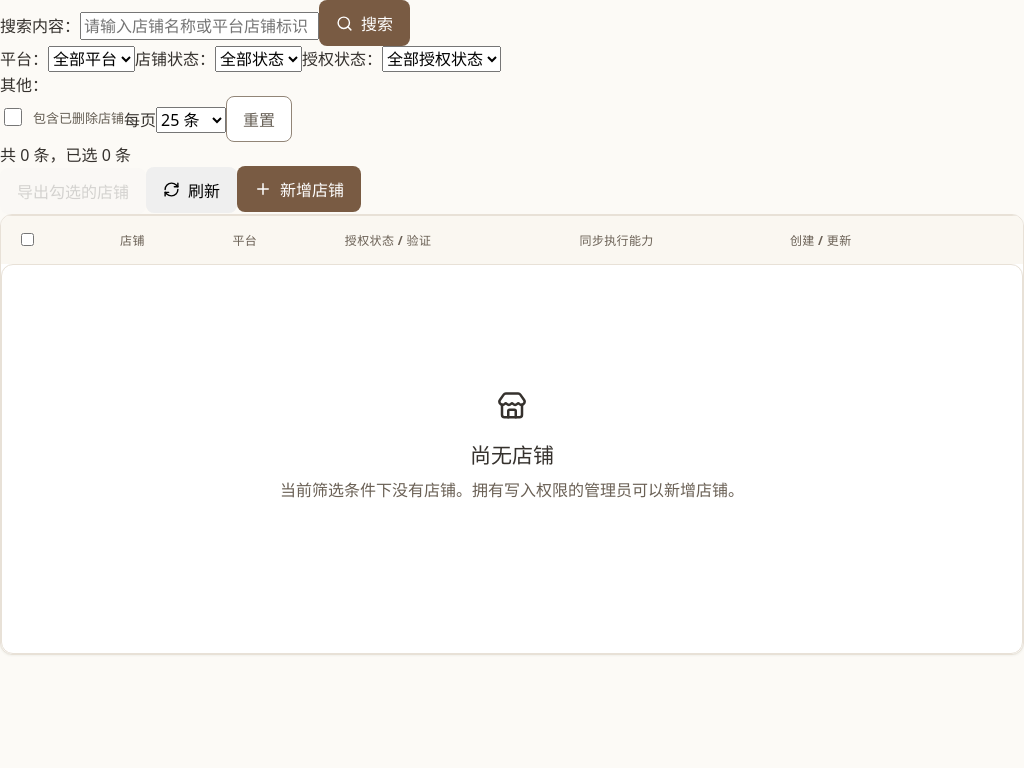
Test case: ShopCenterPage presentation › creates multiple named internal stores without Shopify authorization
Expected: the heading "尚无店铺" is shown, [470,439,554,469]
Click the button "新增店铺".
click(299, 189)  # box [237,166,361,212]
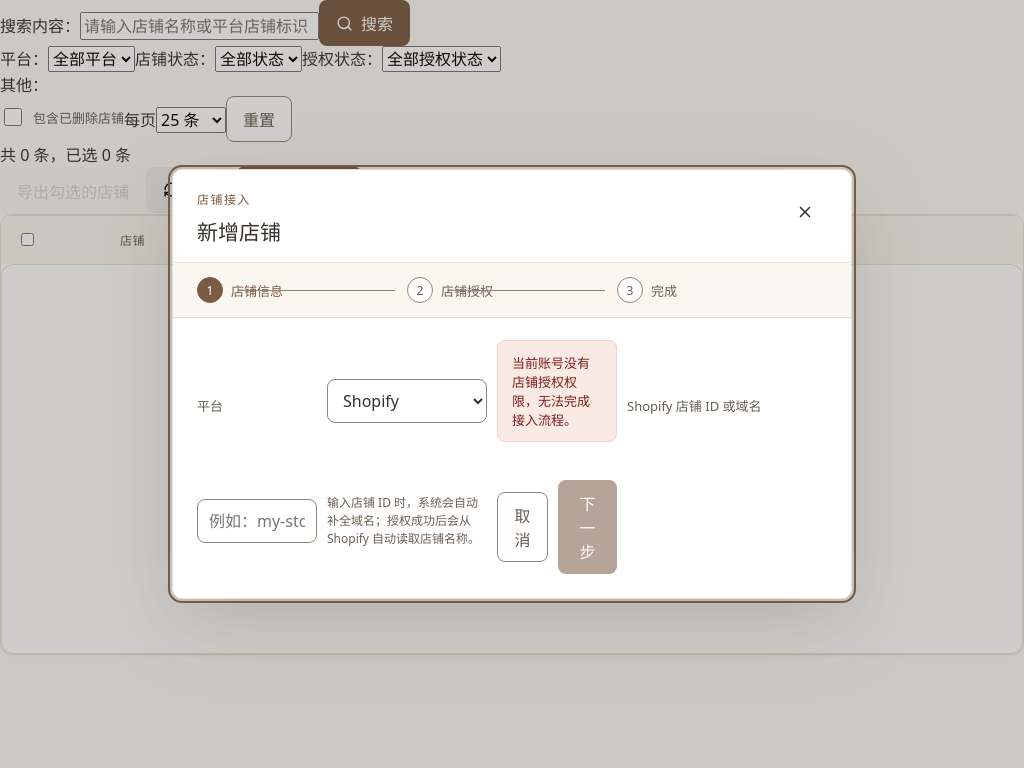
Select "其他平台" in the dropdown labelled "平台" at (407, 401), box [327,379,487,423]
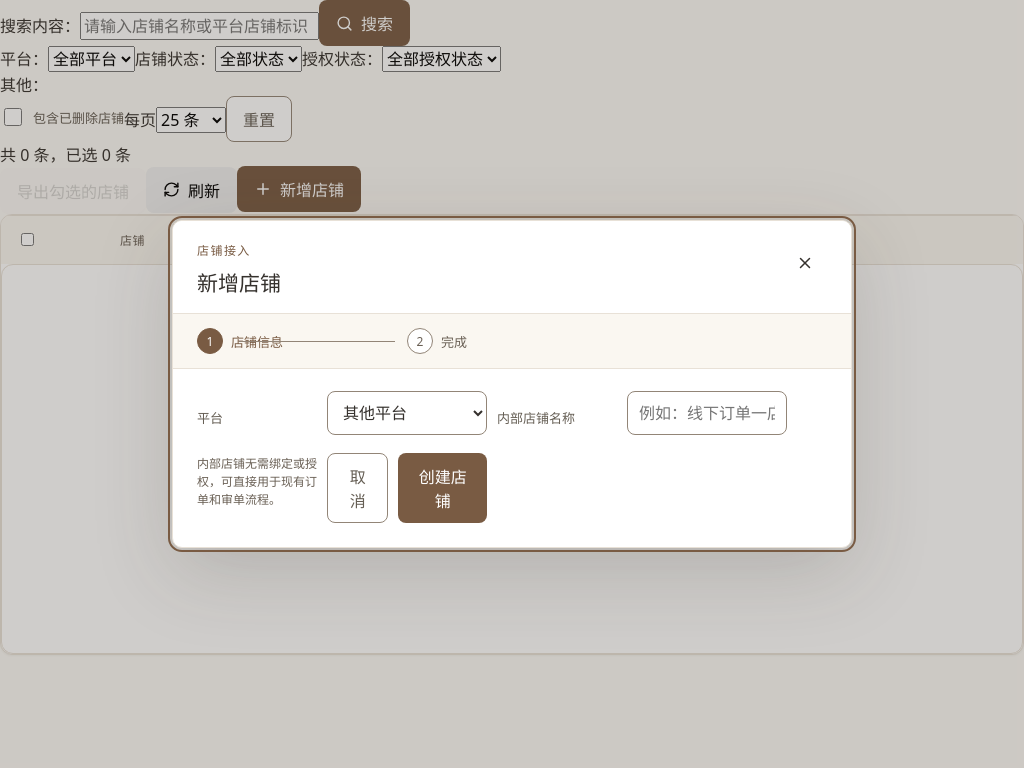
Type " 线下订单一店 " into the field labelled "内部店铺名称".
click(707, 413); type(" 线下订单一店 ")  # box [627,391,787,435]
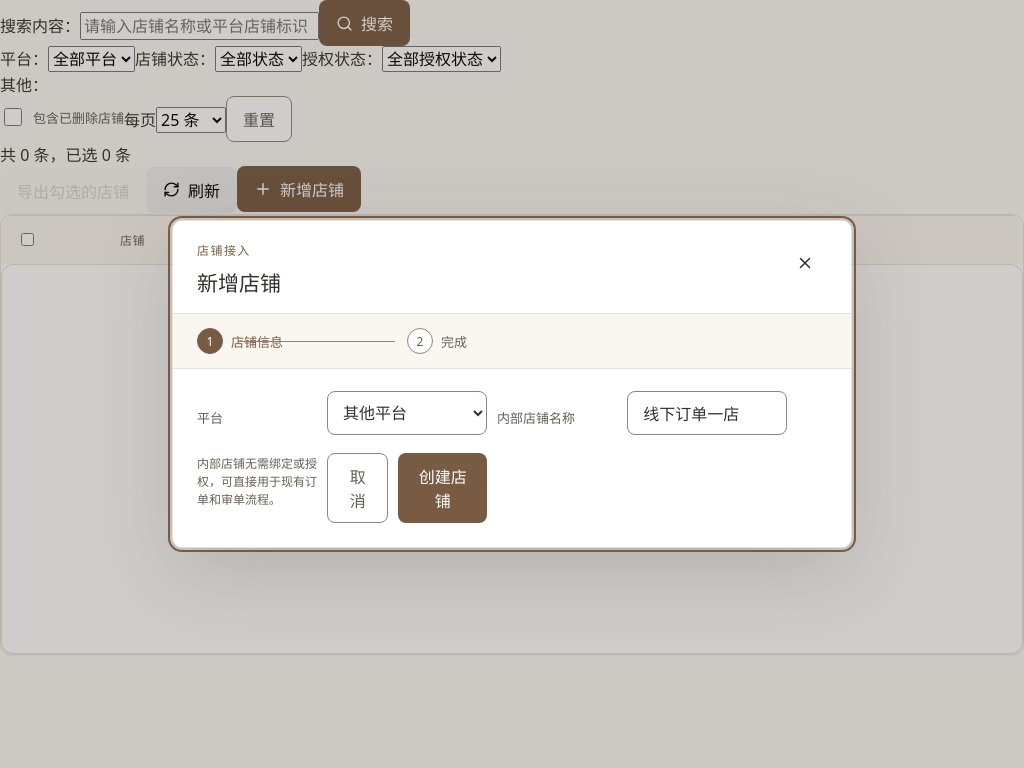
Expected: the label labelled "Shopify 店铺 ID 或域名" is not shown
Expected: the text "内部店铺无需绑定或授权，可直接用于现有订单和审单流程。" is shown, [197,455,317,509]
Click the button "创建店铺".
click(443, 488)  # box [398,453,487,523]
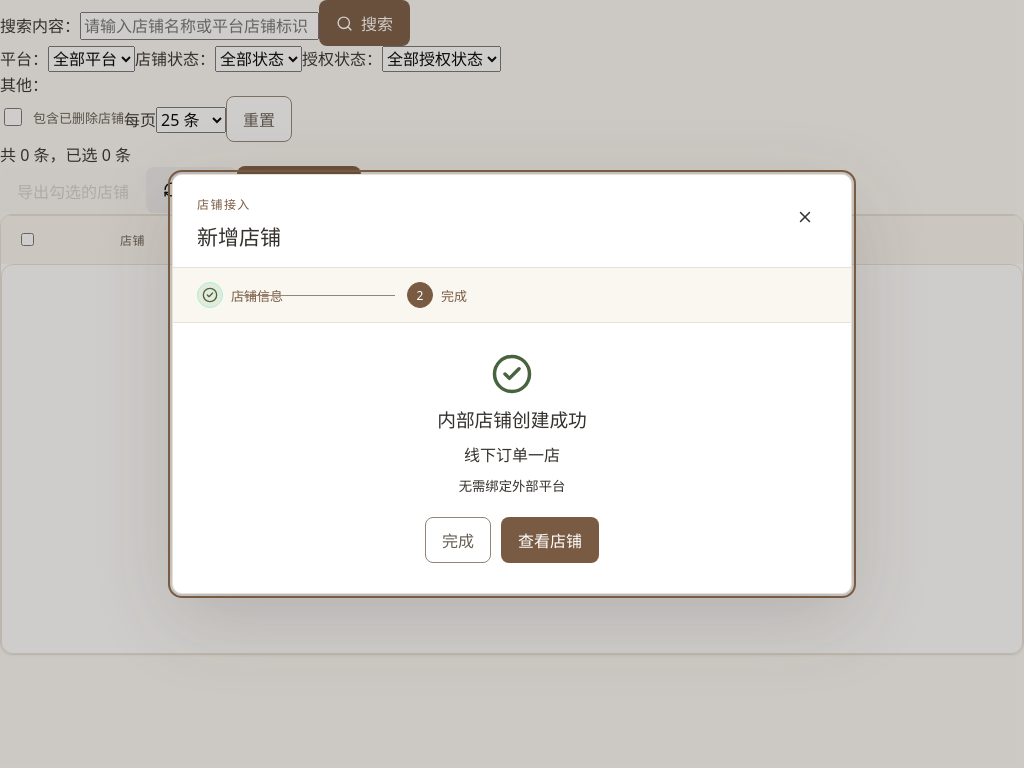
Expected: the heading "内部店铺创建成功" is shown, [437,405,587,432]
Expected: the text "无需绑定外部平台" is shown, [459,476,565,495]
